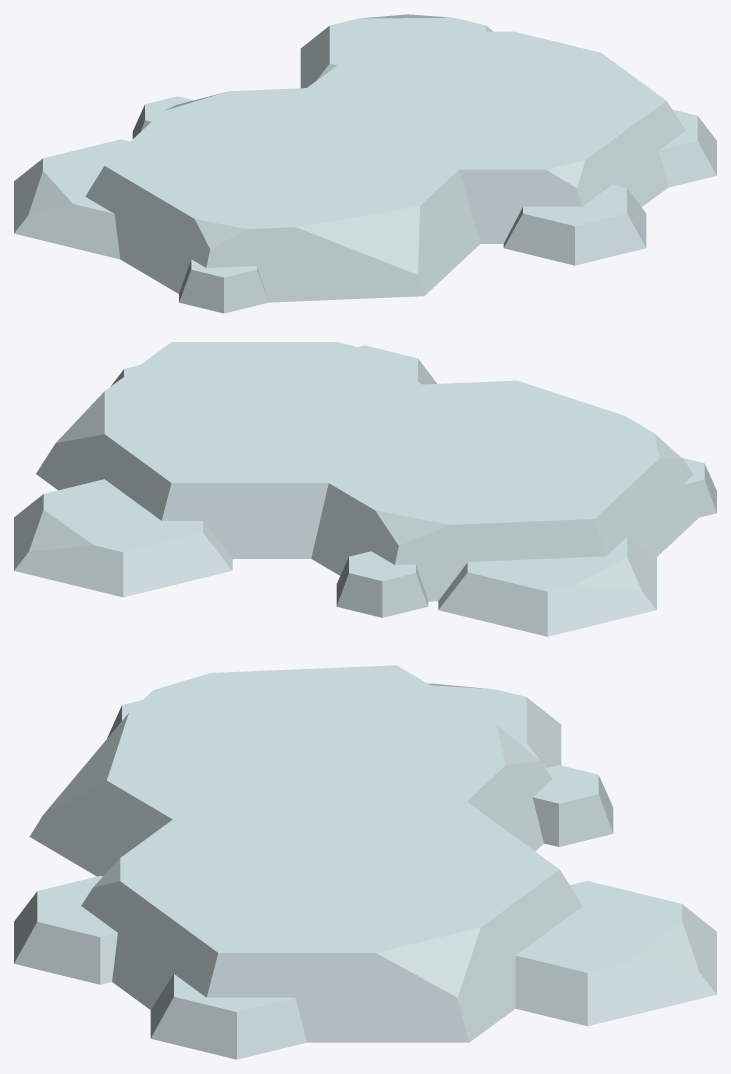
Rendered from platform_stone.gltf.
3 renders of one model, top to bottom at view 1: azimuth 30°, elevation 25°; view 2: azimuth 150°, elevation 25°; view 3: azimuth 270°, elevation 25°, orthographic. The views are drawn at different scales.
Parts seen in each view (by area): view 1: platform_stone; view 2: platform_stone; view 3: platform_stone.
Boxes of the visible parts, x1=… form: platform_stone: x1=14, y1=14, x2=716, y2=313; platform_stone: x1=14, y1=342, x2=716, y2=636; platform_stone: x1=14, y1=665, x2=716, y2=1059.
Bounding box in the file's own units: 0.8932 × 0.0825 × 0.7239.
